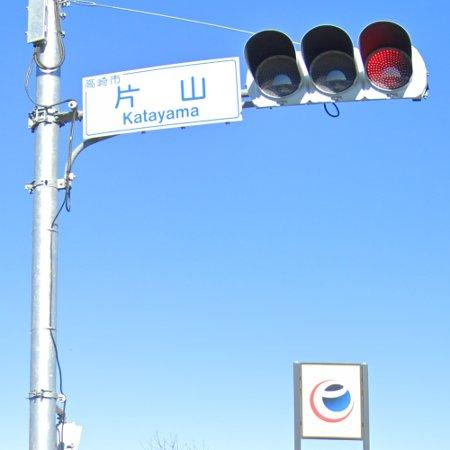traffic lights: (245, 21, 429, 107)
